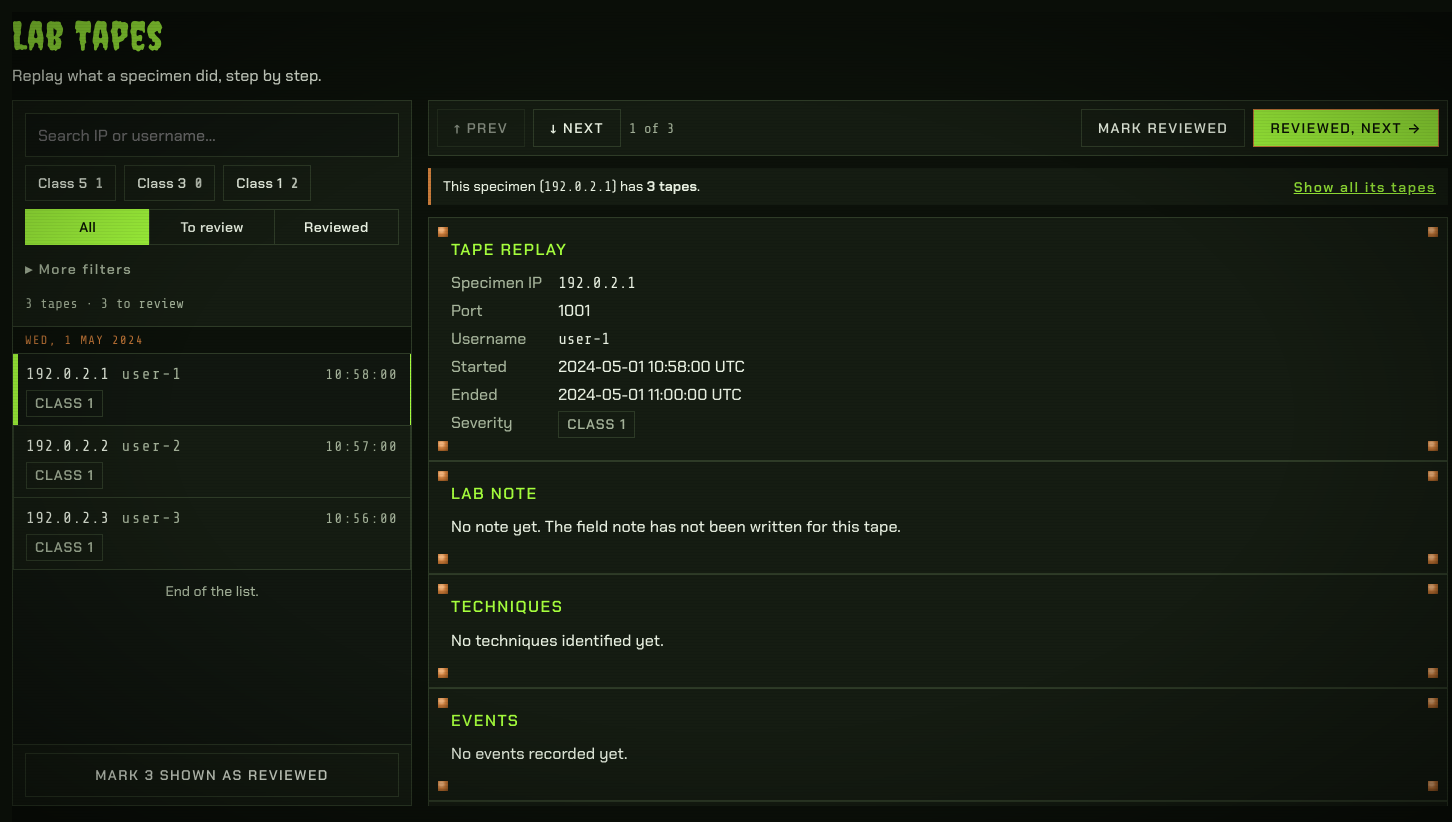
Lab Tapes triage › moves between tapes and marks one reviewed, by button and keyboard
Later steps or results of the test are not shown.
Expected: the button "192.0.2.3 user-3 10:56:00 Class 1" is shown, [13,497,411,570]
Expected: the text "1 of 3" is shown, [629,118,674,138]
Click the button "↓ Next" at (577, 128), box [533,109,621,147]
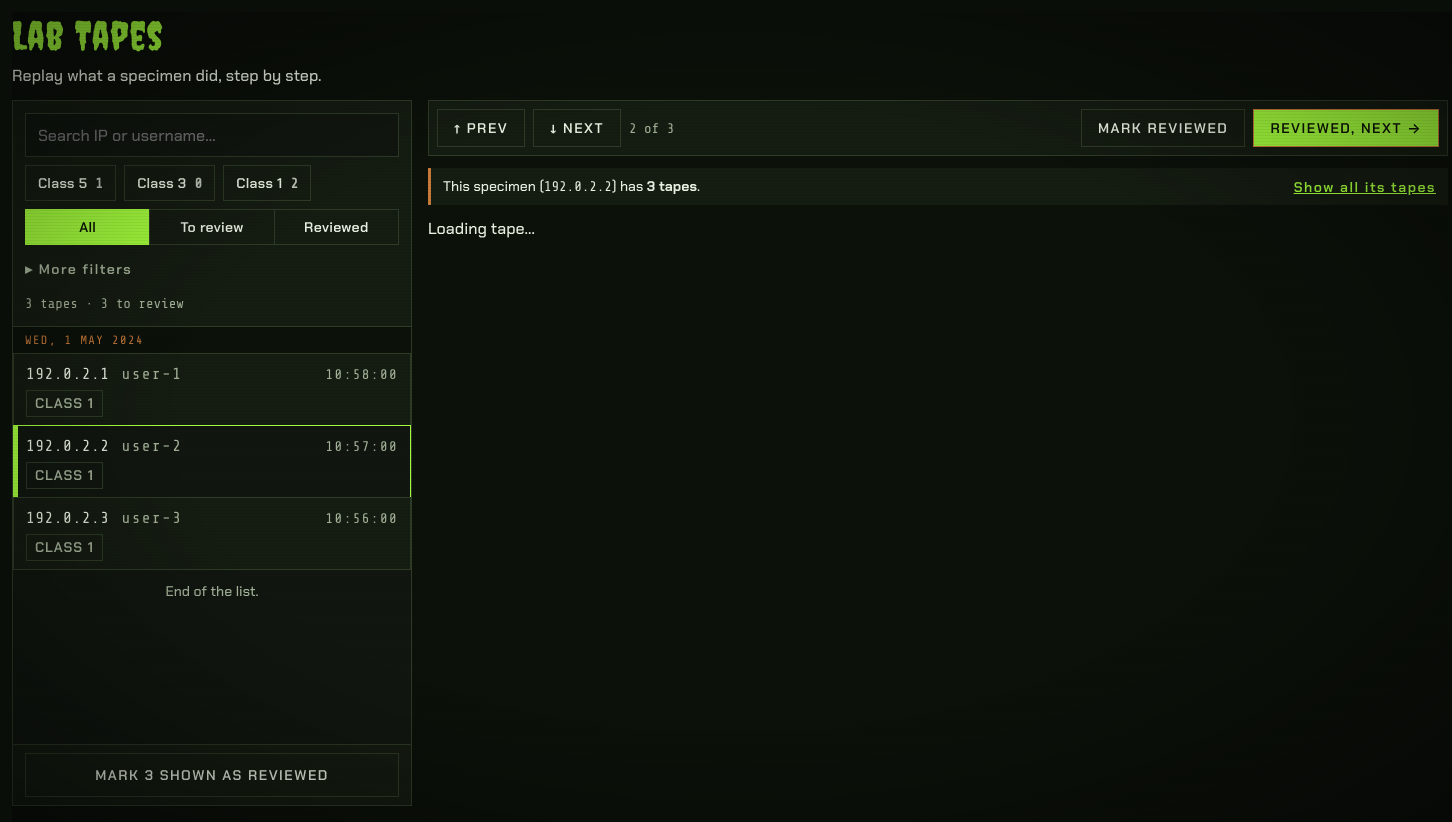
Expected: the text "2 of 3" is shown, [629,118,674,138]
Press r
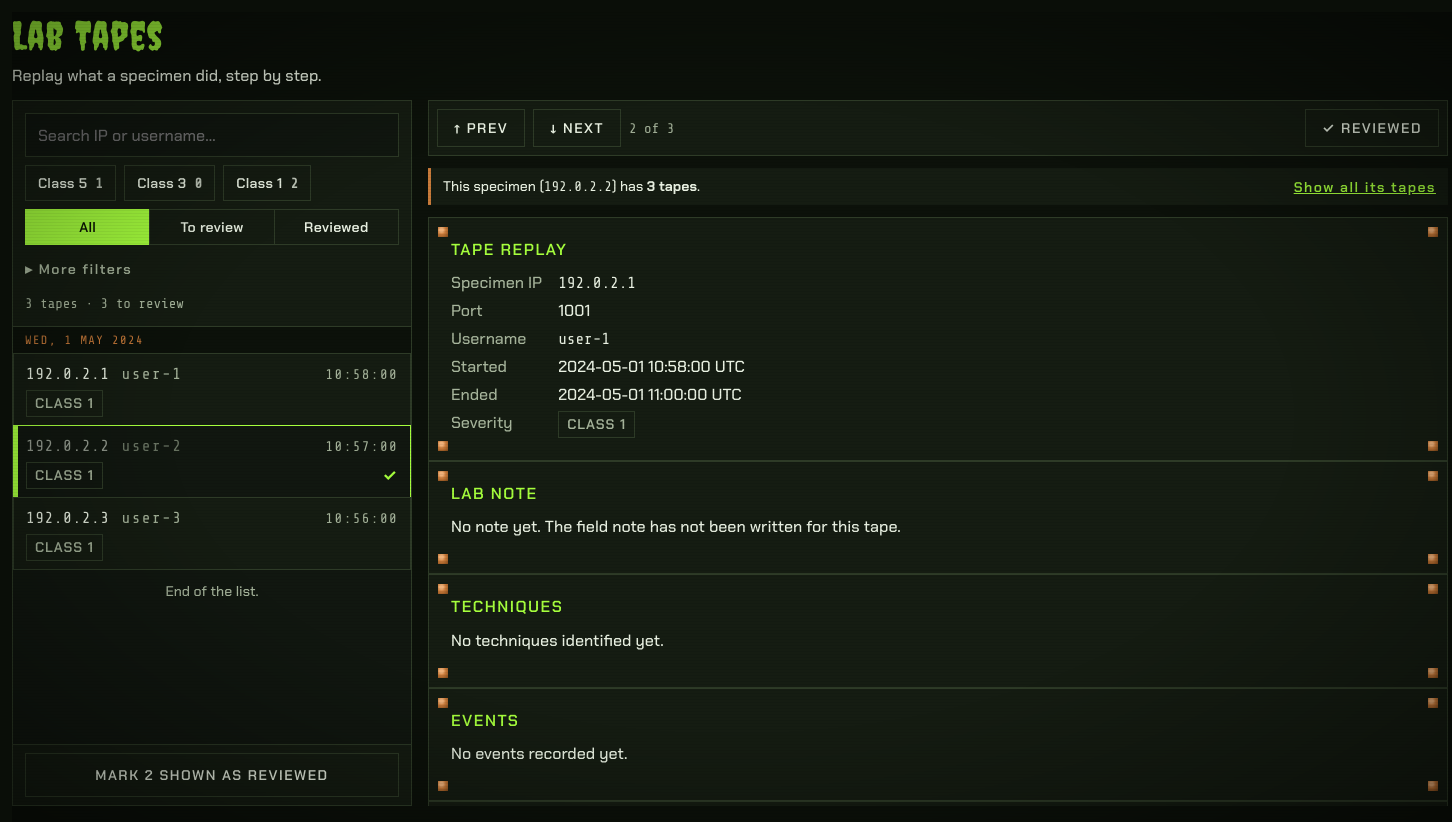
Expected: the button "✓ Reviewed" is shown, [1305,109,1439,147]
